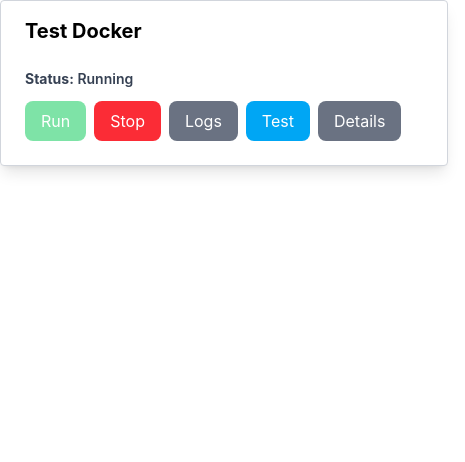
Test case: DockerInstance Component › should show docker-assigned host port for running container
Step 1. Click the button "Details" → [360, 121], box x1=318 y1=101 x2=401 y2=141
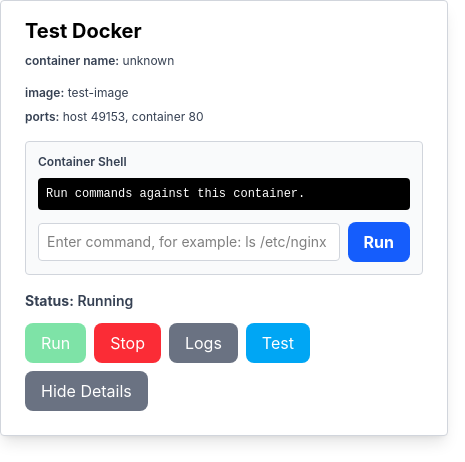
Expected: the text "ports: host 49153, container 80" is shown, x1=25 y1=109 x2=220 y2=125
